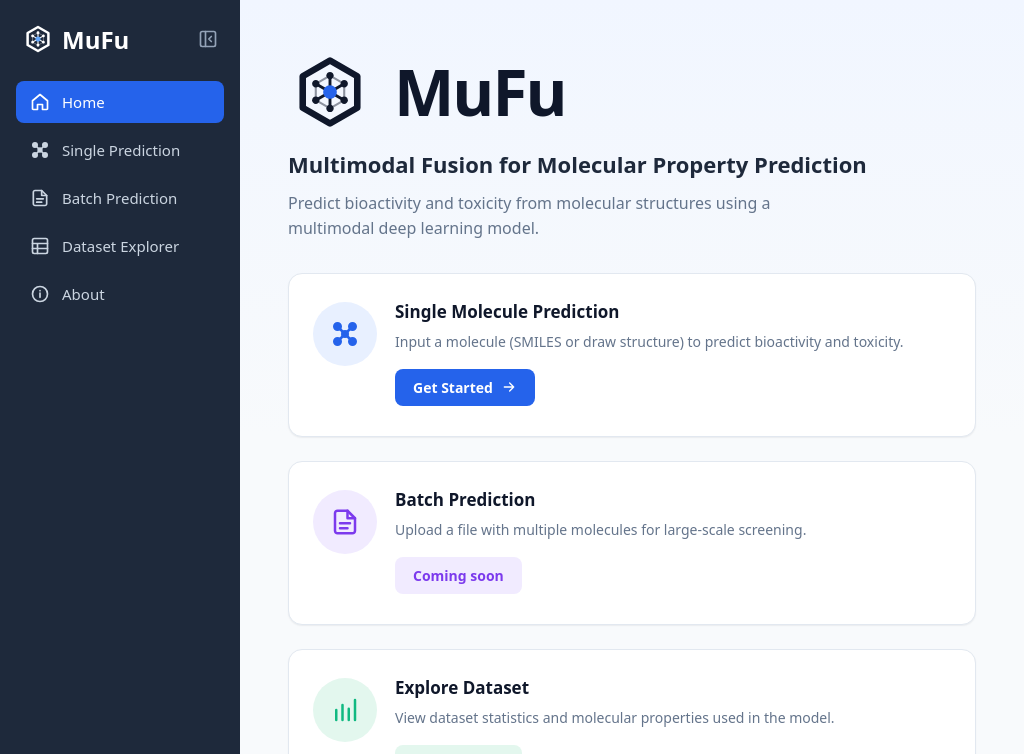
App › routes the home entry cards and marks unfinished ones as coming soon
The image size is (1024, 754).
Click the link "Get Started": {"x": 465, "y": 387} top-left (395, 369), bottom-right (535, 406)
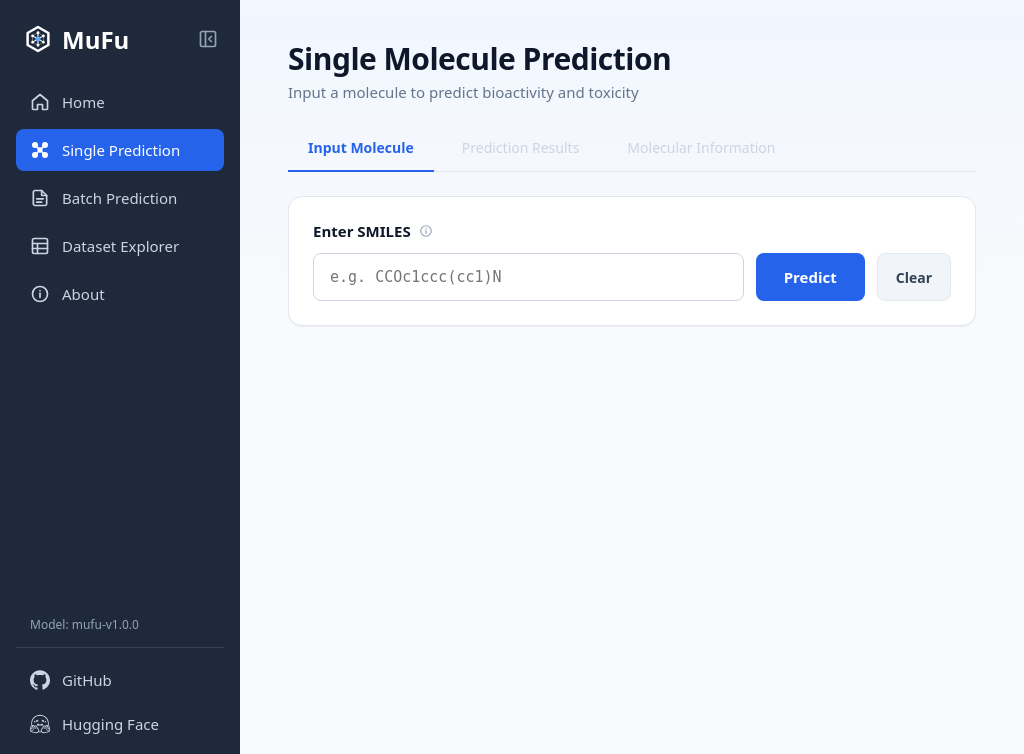
Check: the heading "Single Molecule Prediction" is shown, box top-left (288, 38), bottom-right (671, 79)
